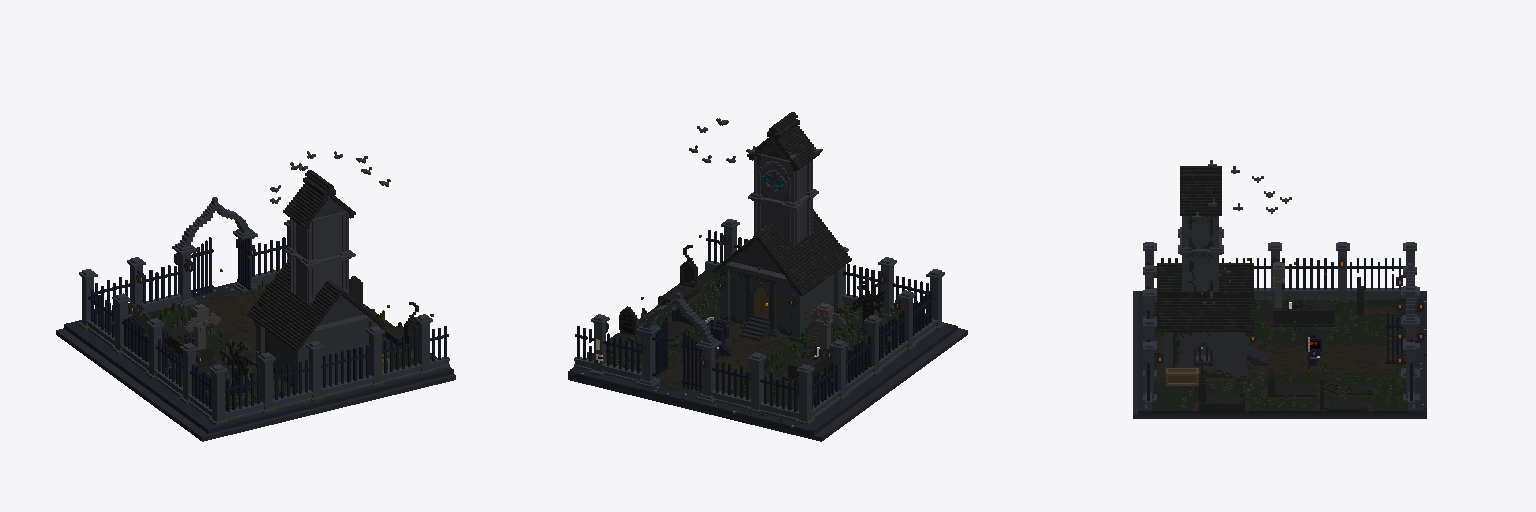
The picture shows the model from 3 angles: view 1: azimuth 30°, elevation 25°; view 2: azimuth 150°, elevation 25°; view 3: azimuth 270°, elevation 25°; orthographic projection.
Parts seen in each view (by area): view 1: object 1; view 2: object 1; view 3: object 1.
Part boxes in pixels (x1,y1,x2,y2): object 1: (56, 151, 455, 441); object 1: (568, 112, 967, 441); object 1: (1133, 160, 1426, 418).
Size of the model in its own units: 12.6 by 9.6 by 12.6.
1 materials, 1 textured.